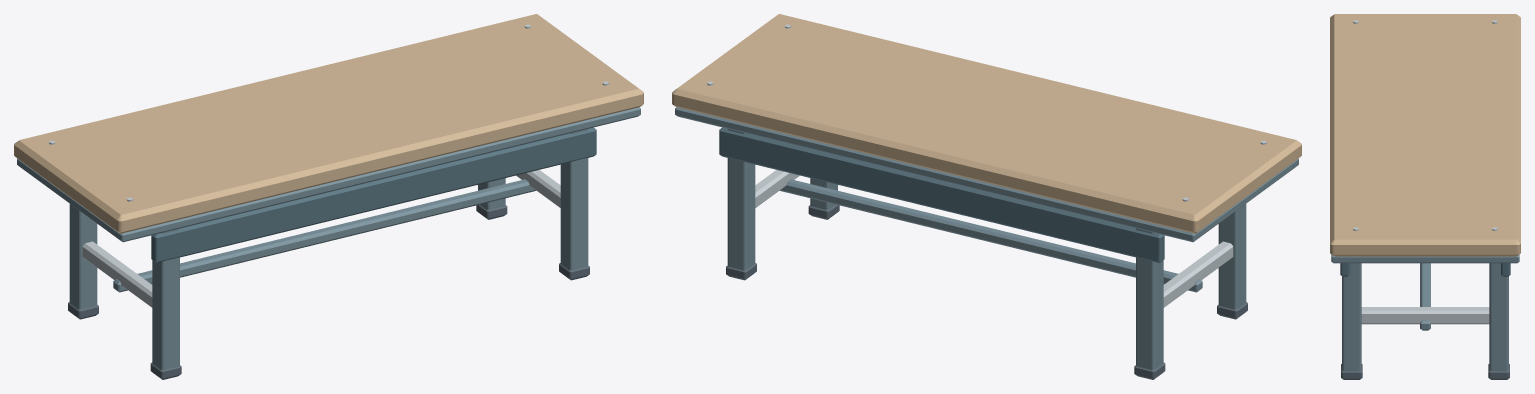
Rendered from canteen_table.glb.
3 renders of one model, left to right at view 1: azimuth 30°, elevation 25°; view 2: azimuth 150°, elevation 25°; view 3: azimuth 270°, elevation 25°, orthographic. The views are drawn at different scales.
Visible parts, largest first — view 1: 000_laminated_oak_top, 013_lengthwise_support, 001_powdercoat_top_rim, 014_central_stretcher, 009_square_tube_leg, 004_square_tube_leg, 002_square_tube_leg, 006_H_brace_cross, 011_H_brace_cross; view 2: 000_laminated_oak_top, 012_lengthwise_support, 001_powdercoat_top_rim, 014_central_stretcher, 007_square_tube_leg, 002_square_tube_leg, 004_square_tube_leg, 006_H_brace_cross, 011_H_brace_cross; view 3: 000_laminated_oak_top, 011_H_brace_cross, 007_square_tube_leg, 009_square_tube_leg, 001_powdercoat_top_rim, 014_central_stretcher, 008_rubber_foot, 010_rubber_foot.
Part boxes in pixels (<box>): 000_laminated_oak_top: <box>14,14,643,233</box>; 013_lengthwise_support: <box>151,127,596,262</box>; 001_powdercoat_top_rim: <box>17,107,640,242</box>; 014_central_stretcher: <box>113,179,536,292</box>; 009_square_tube_leg: <box>560,129,588,270</box>; 004_square_tube_leg: <box>152,228,179,369</box>; 002_square_tube_leg: <box>69,204,97,309</box>; 006_H_brace_cross: <box>82,241,152,307</box>; 011_H_brace_cross: <box>516,170,560,207</box>; 000_laminated_oak_top: <box>672,14,1301,233</box>; 012_lengthwise_support: <box>719,127,1164,262</box>; 001_powdercoat_top_rim: <box>675,107,1298,242</box>; 014_central_stretcher: <box>779,179,1202,292</box>; 007_square_tube_leg: <box>727,129,755,270</box>; 002_square_tube_leg: <box>1136,228,1163,369</box>; 004_square_tube_leg: <box>1218,204,1246,309</box>; 006_H_brace_cross: <box>1163,241,1233,307</box>; 011_H_brace_cross: <box>755,170,799,207</box>; 000_laminated_oak_top: <box>1330,14,1520,256</box>; 011_H_brace_cross: <box>1361,307,1489,324</box>; 007_square_tube_leg: <box>1489,263,1508,371</box>; 009_square_tube_leg: <box>1342,263,1361,371</box>; 001_powdercoat_top_rim: <box>1331,254,1519,263</box>; 014_central_stretcher: <box>1420,263,1430,330</box>; 008_rubber_foot: <box>1488,364,1509,379</box>; 010_rubber_foot: <box>1341,364,1362,379</box>.
Bounding box in the file's own units: 2.5 × 0.828 × 0.88.
